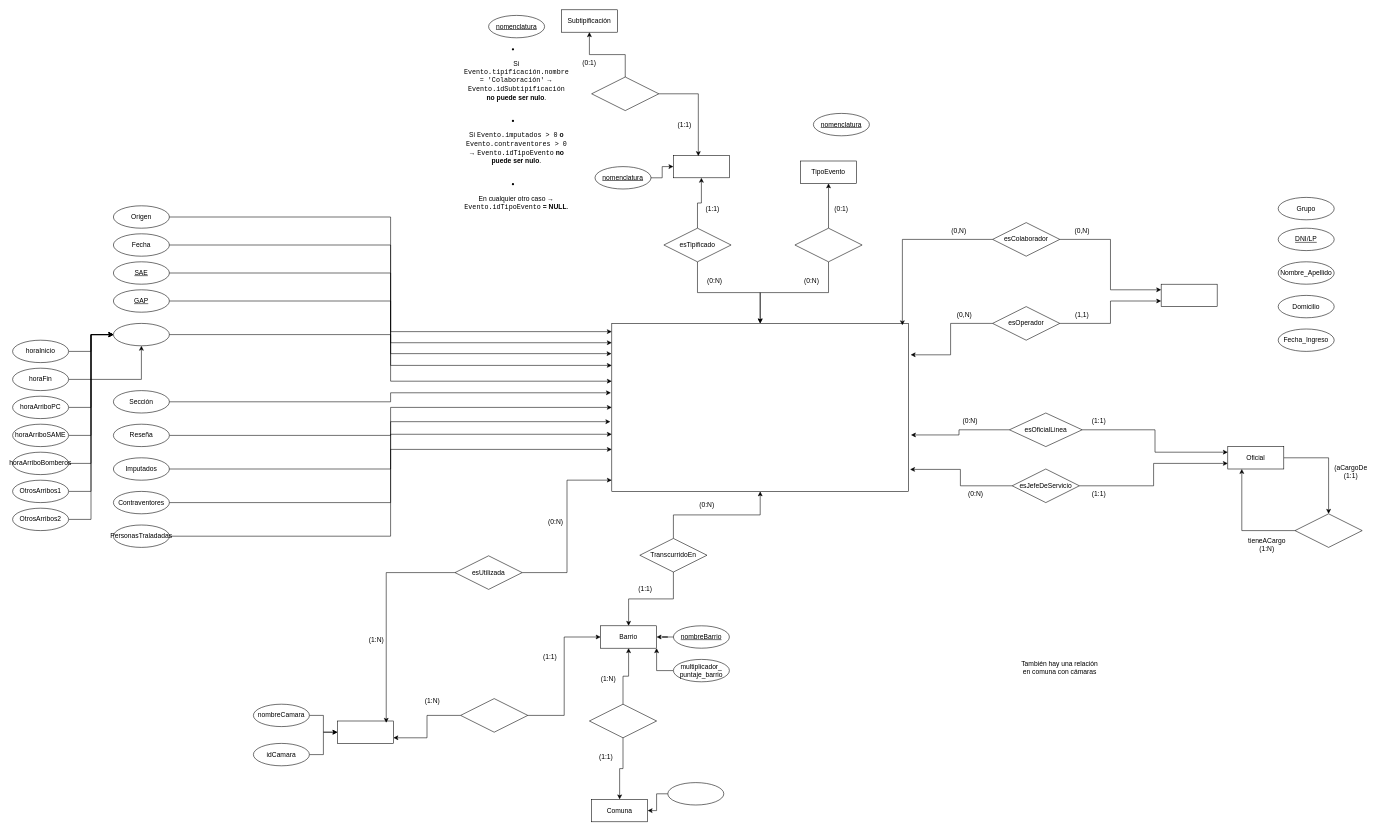
Some shapes in this 1378 by 832 pixel diagram are drawn without their labels. The shapes that lost their labels are listed below. From the top down, each one's centre as x and y in pixels, then its label:
point 625,93: esSubtipificado
point 701,166: Tipificación
point 828,245: esCategorizado
point 1189,295: Auxiliar/Contratado
point 141,334: Horarios
point 760,407: Evento
point 1328,530: esSupervisado
point 365,731: Cámara
point 494,715: UbicadaEn
point 623,721: Pertenece
point 695,793: nombreComuna
